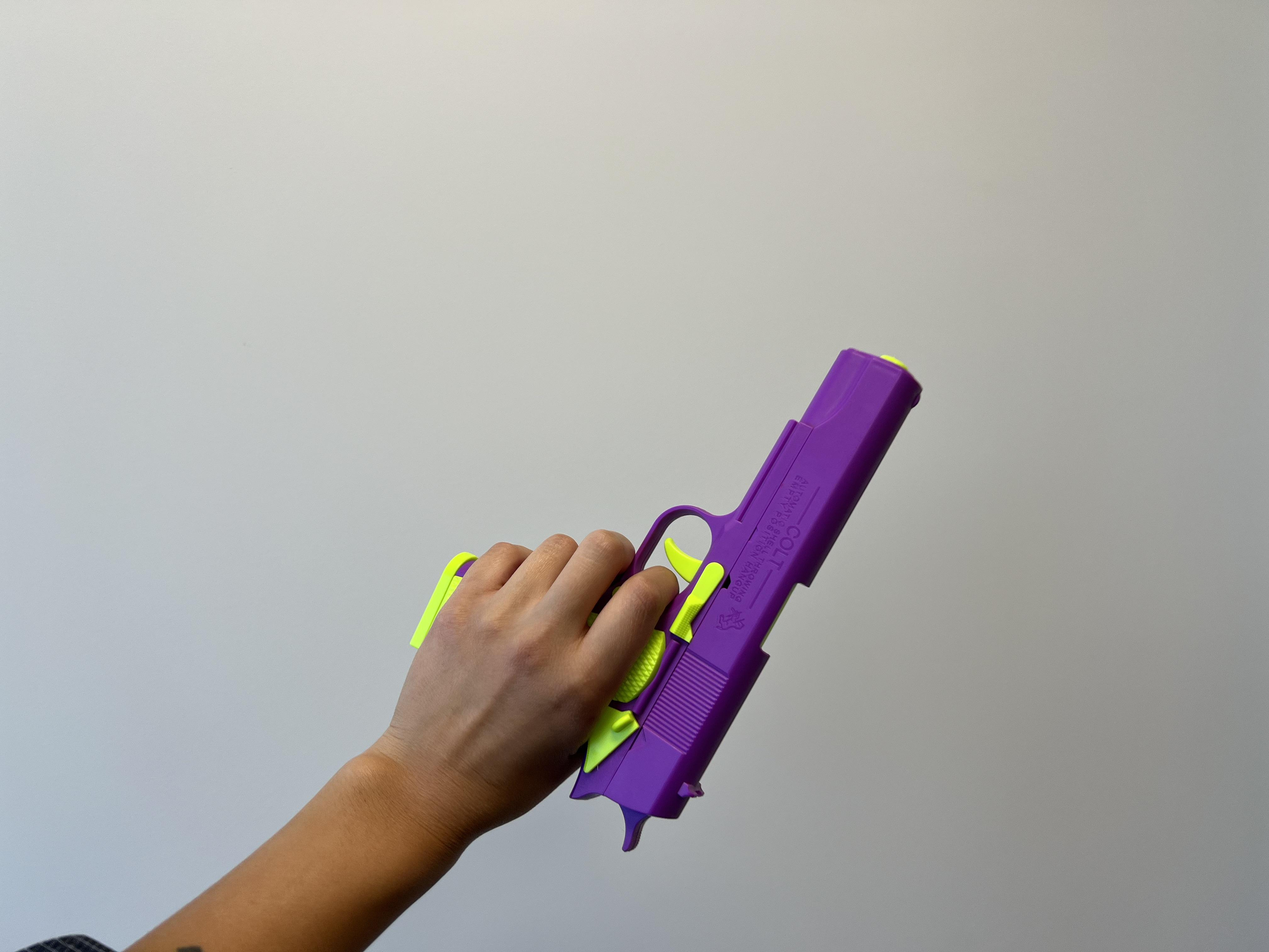Knife: (0, 537, 669, 952), (573, 342, 925, 850), (397, 526, 683, 828)
